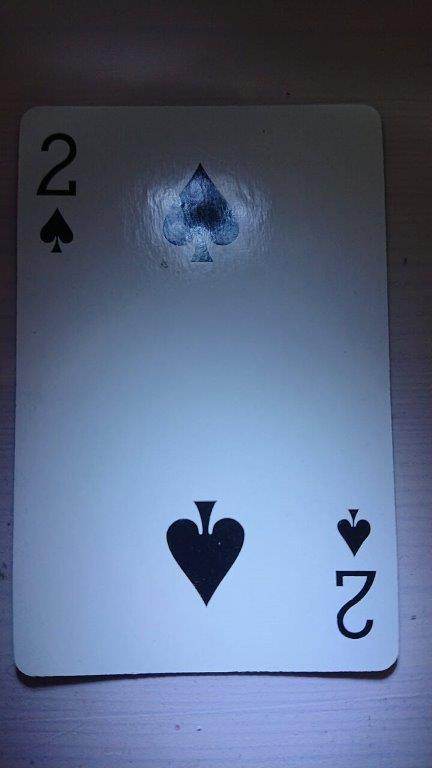2S: (10, 102, 401, 679)
